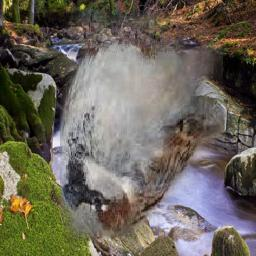Sparrow: (61, 11, 224, 240)
